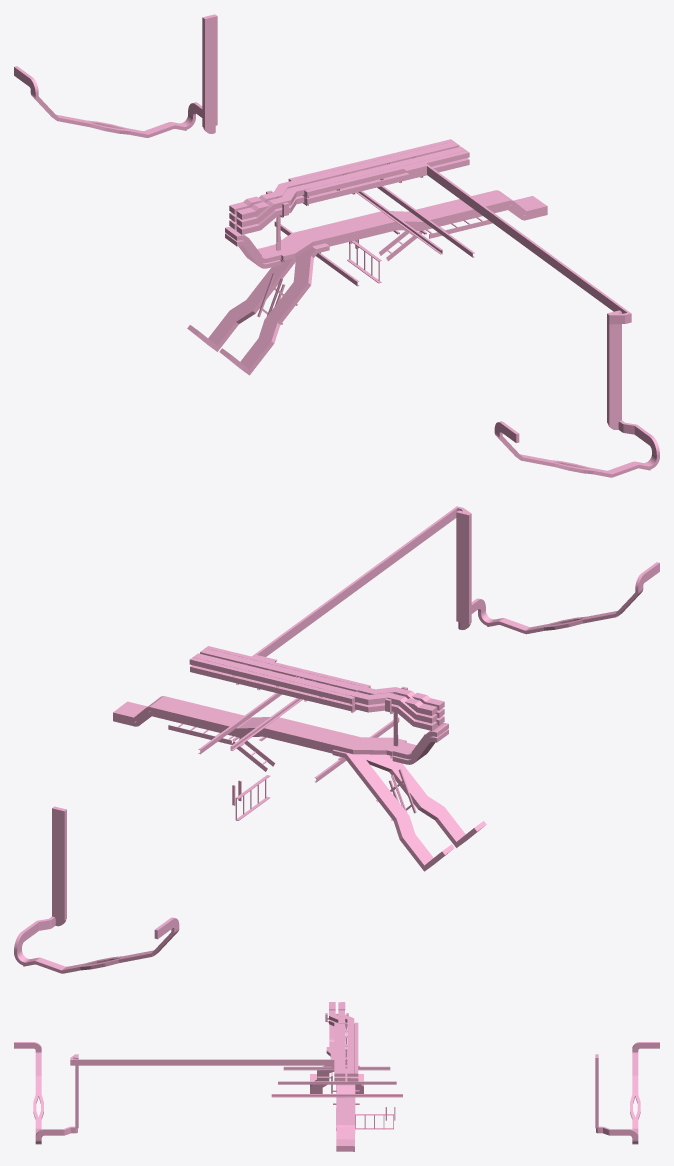
File: Serv-Z0-Sec1-cut3.glb
3 renders of one model, top to bottom at view 1: azimuth 30°, elevation 25°; view 2: azimuth 150°, elevation 25°; view 3: azimuth 270°, elevation 25°, orthographic. The views are drawn at different scales.
Visible parts, largest first — view 1: Serv-Z0-Sec1-Cabels-cut3, Serv-Z0-Sec1-Trays-cut3; view 2: Serv-Z0-Sec1-Cabels-cut3, Serv-Z0-Sec1-Trays-cut3; view 3: Serv-Z0-Sec1-Cabels-cut3, Serv-Z0-Sec1-Trays-cut3.
Part boxes in pixels (x1,y1,x2,y2): Serv-Z0-Sec1-Cabels-cut3: (14,14,659,477); Serv-Z0-Sec1-Trays-cut3: (274,156,492,286); Serv-Z0-Sec1-Cabels-cut3: (14,506,659,973); Serv-Z0-Sec1-Trays-cut3: (168,663,399,820); Serv-Z0-Sec1-Cabels-cut3: (14,1002,659,1151); Serv-Z0-Sec1-Trays-cut3: (271,1014,402,1130).
Size of the model in its own units: 8.05 by 3.43 by 20.65.
